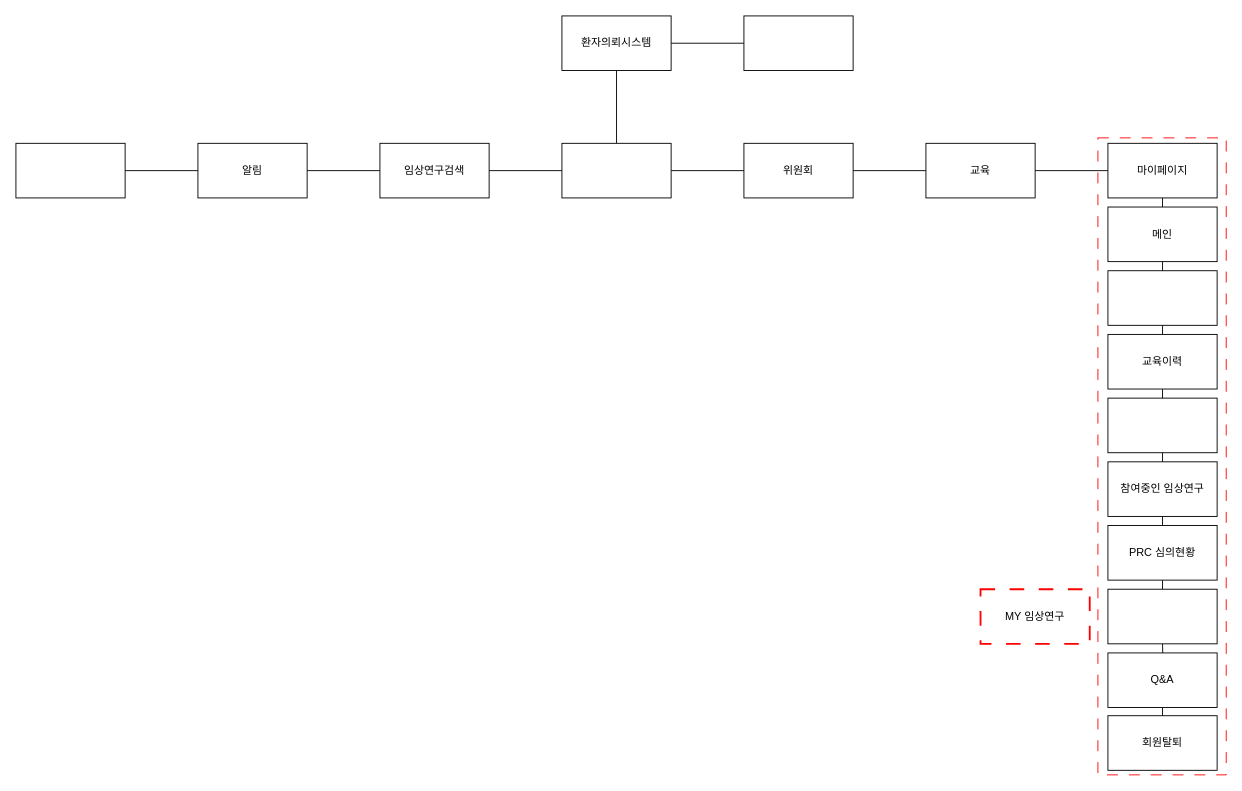
The diagram is 1242 pixels wide and 791 high, and some of its shapes have lost their labels. The shapes that lost their labels are listed below. From the top down, each one's centre as x and y in pixels, then its label:
pixel 798 43: 로그인/회원가입
pixel 70 170: 연구회 소 개
pixel 616 170: KCSG 연구지원
pixel 1162 297: 연회비납부
pixel 1162 425: 나의 위원회
pixel 1162 616: 회원정보수정
